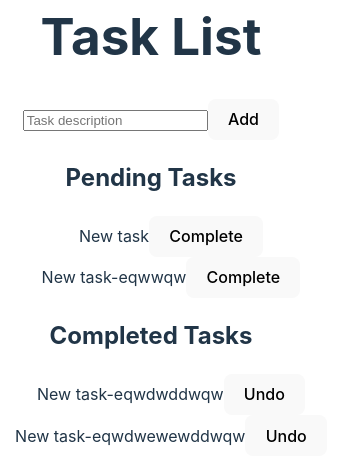
Task app tests › Should change a task to the pending list when clicking if it is available at completed list
What coordinates should you click on to do the following:
click the button "Undo" next to "New task-eqwdwddwqw"
I would click on:
 (264, 394)
Its box is 224,374 -> 305,415.
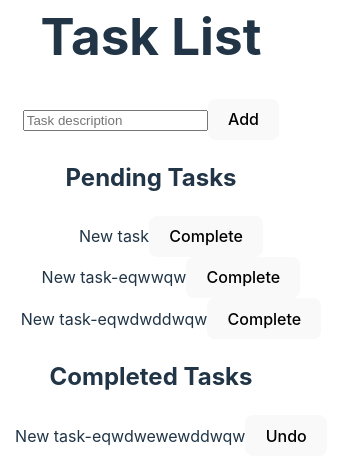
Expected: the number of elements with test id "pending-task-item" is 3, 79,226 -> 263,246; 42,268 -> 300,288; 21,309 -> 321,329
